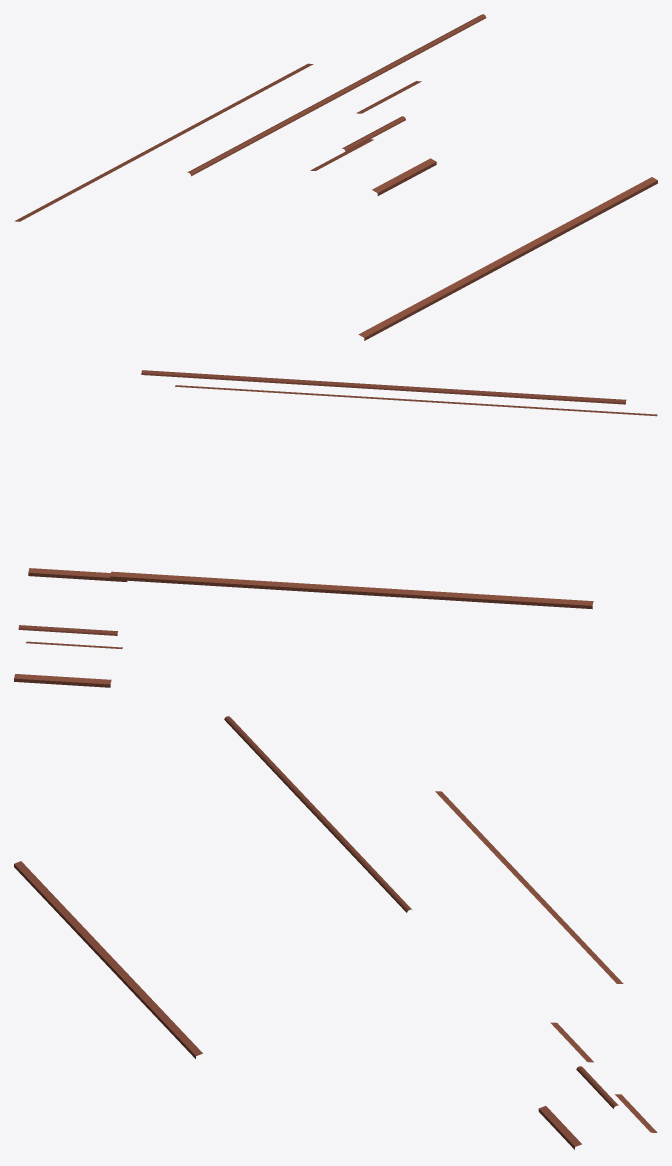
The picture shows the model from 3 angles, top to bottom: view 1: azimuth 30°, elevation 25°; view 2: azimuth 150°, elevation 25°; view 3: azimuth 270°, elevation 25°; orthographic projection. The views are drawn at different scales.
Parts seen in each view (by area): view 1: detail; view 2: detail; view 3: detail.
Boxes of the visible parts, <box> form: detail: <box>14,14,657,340</box>; detail: <box>14,370,657,687</box>; detail: <box>14,716,657,1149</box>.
Bounding box in the file's own units: 25.83 × 10.32 × 26.55.
